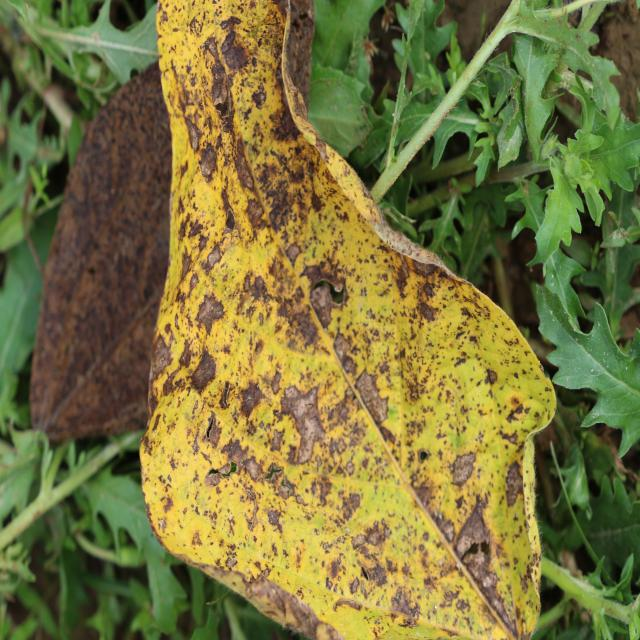Bacterial_Blight: (242, 575, 327, 639), (257, 150, 314, 242), (275, 383, 329, 473), (349, 516, 397, 589), (301, 261, 337, 323), (454, 497, 490, 557), (354, 368, 386, 426), (219, 22, 253, 75), (194, 291, 225, 337), (189, 347, 218, 393), (233, 137, 256, 193), (237, 381, 267, 421), (152, 329, 174, 378), (451, 450, 476, 485), (412, 479, 436, 513), (505, 459, 523, 504), (202, 412, 222, 449), (199, 147, 216, 179), (205, 245, 222, 273), (243, 456, 261, 481), (419, 301, 436, 324), (266, 508, 283, 530), (501, 428, 519, 447), (485, 367, 498, 386), (191, 530, 203, 546), (225, 554, 237, 569)
Soybean: (140, 0, 555, 640)
